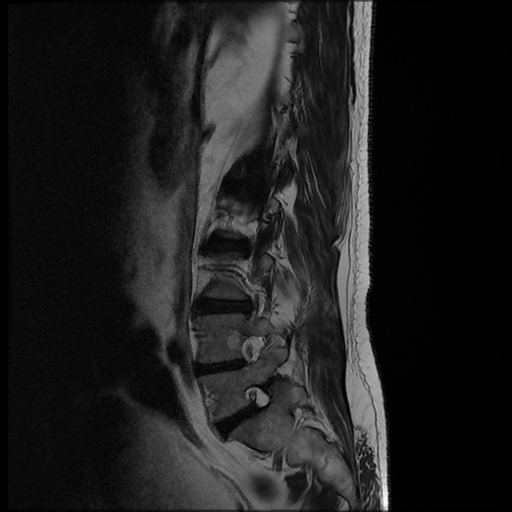RFS0: (237, 371, 284, 418)
